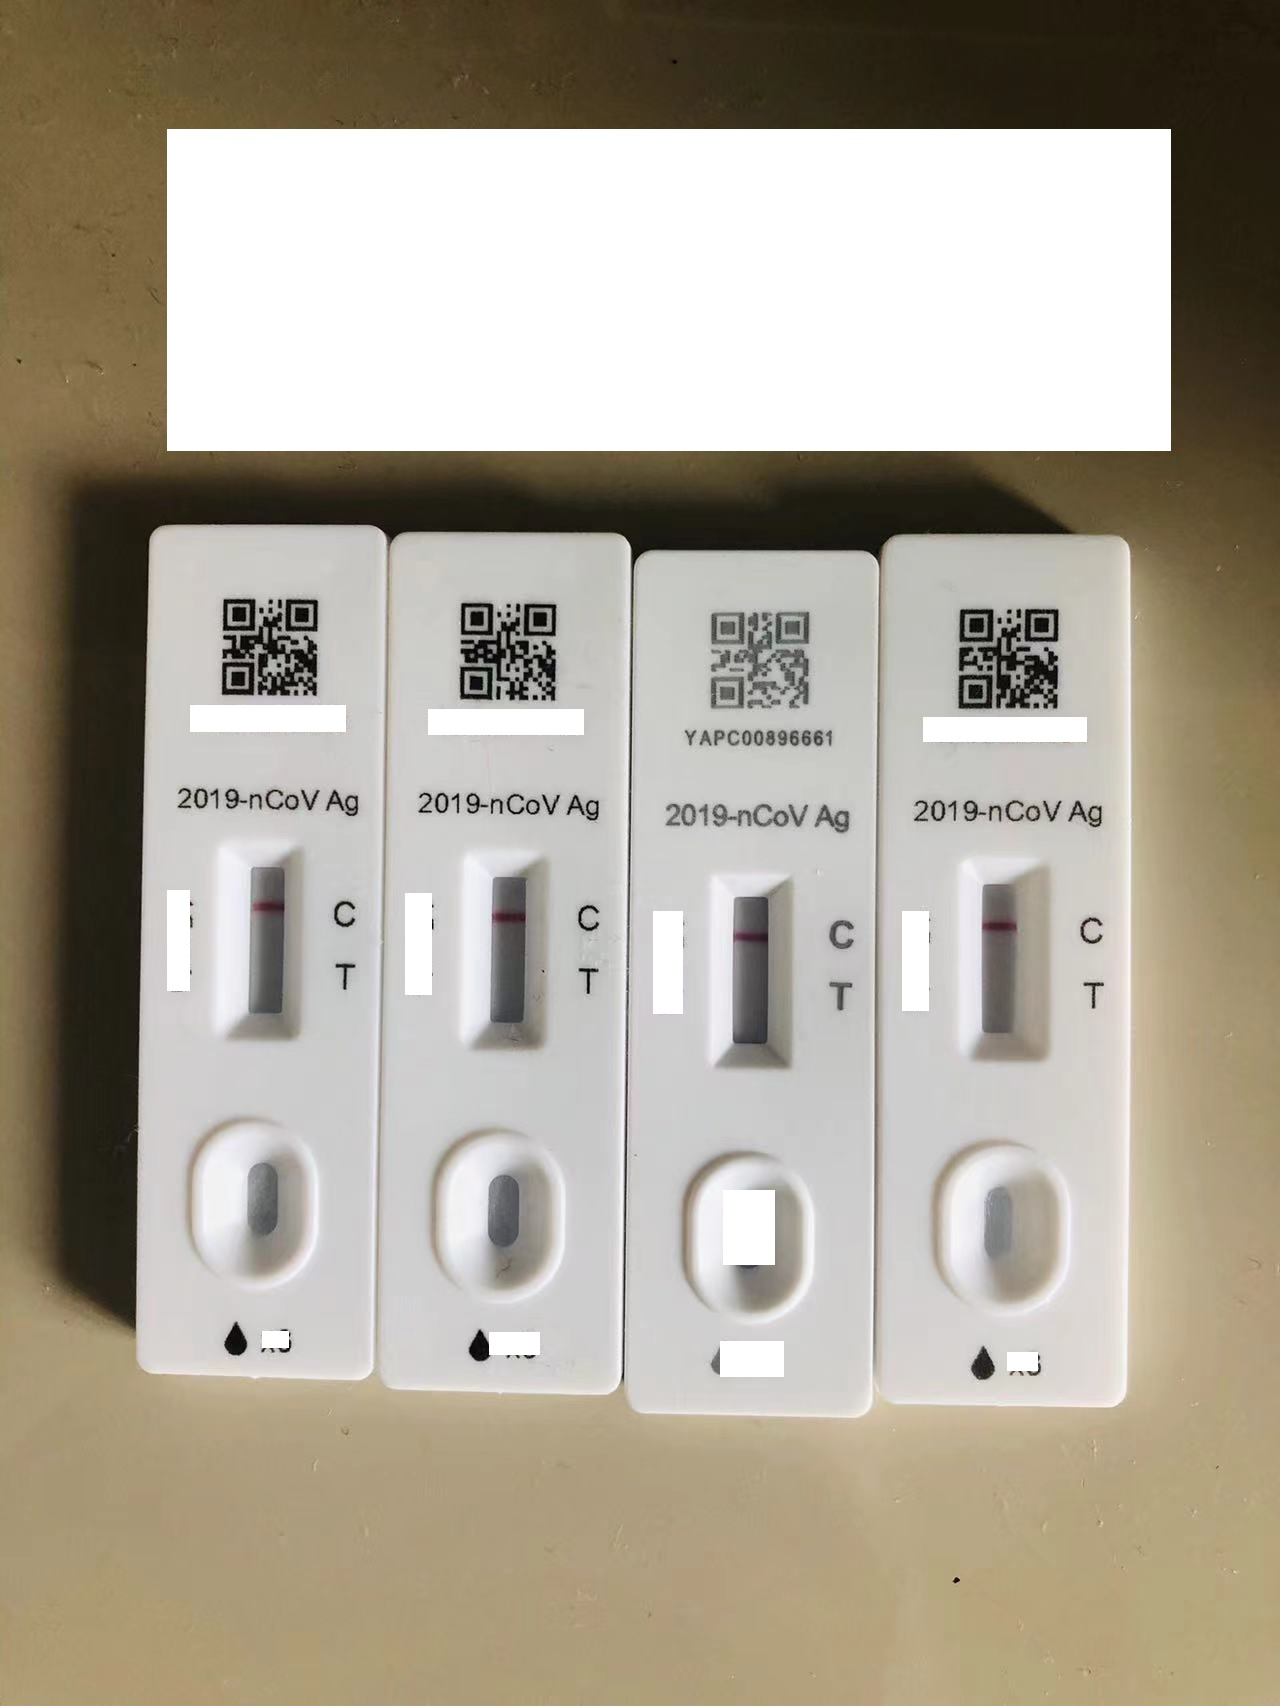negative: (960, 854, 1051, 1063), (464, 850, 555, 1050), (218, 840, 307, 1046), (710, 867, 792, 1075)
